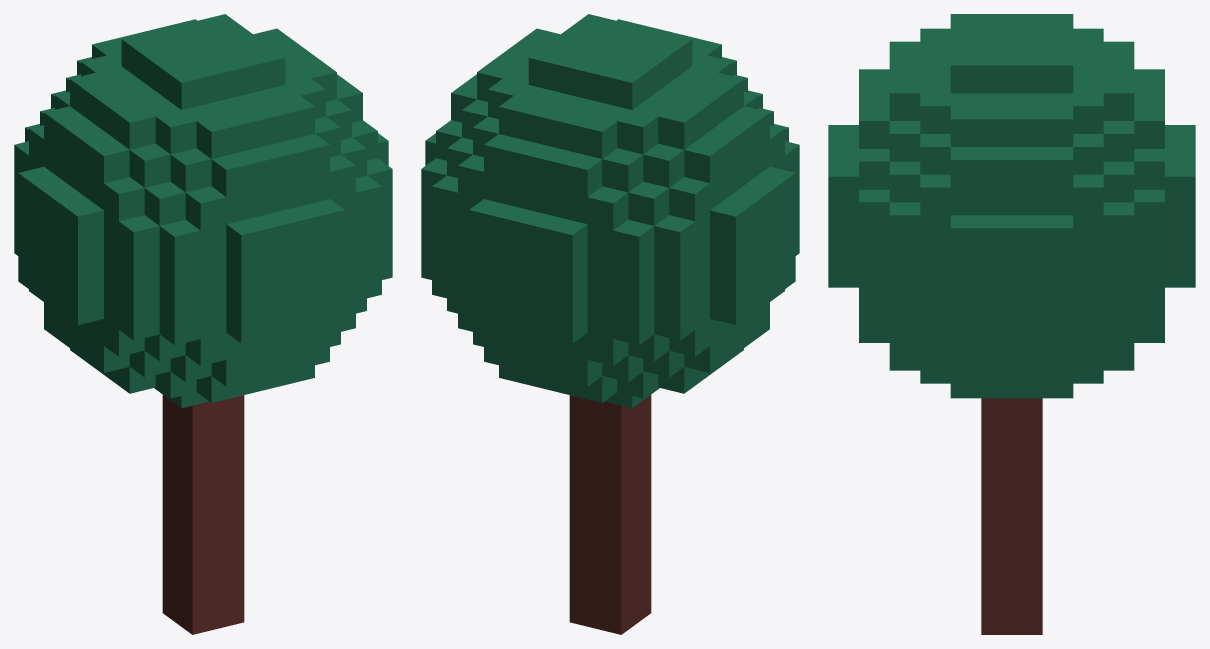
Rendered from Buildings Final For Import-6.obj.
3 renders of one model, left to right at view 1: azimuth 30°, elevation 25°; view 2: azimuth 150°, elevation 25°; view 3: azimuth 270°, elevation 25°, orthographic. The views are drawn at different scales.
Size of the model in its own units: 1.2 by 2.1 by 1.2.
1 material, 1 textured.
